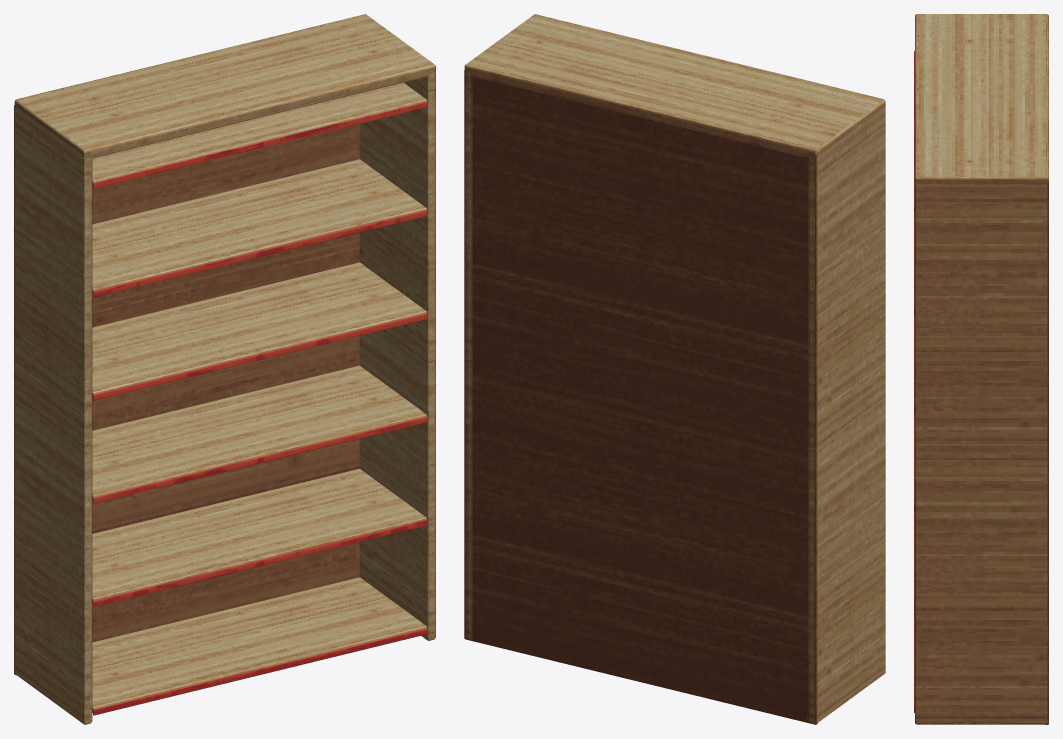
The model's file is mk_shelf.glb.
The picture shows the model from 3 angles, left to right: view 1: azimuth 30°, elevation 25°; view 2: azimuth 150°, elevation 25°; view 3: azimuth 270°, elevation 25°; orthographic projection. The views are drawn at different scales.
Parts seen in each view (by area): view 1: mesh; view 2: mesh; view 3: mesh.
Boxes of the visible parts, left/top/right/bottom form: mesh: left=14, top=14, right=435, bottom=724; mesh: left=464, top=14, right=885, bottom=724; mesh: left=914, top=14, right=1048, bottom=724.
Size of the model in its own units: 1.36 by 2.12 by 0.4731.
1 material, 1 textured.
